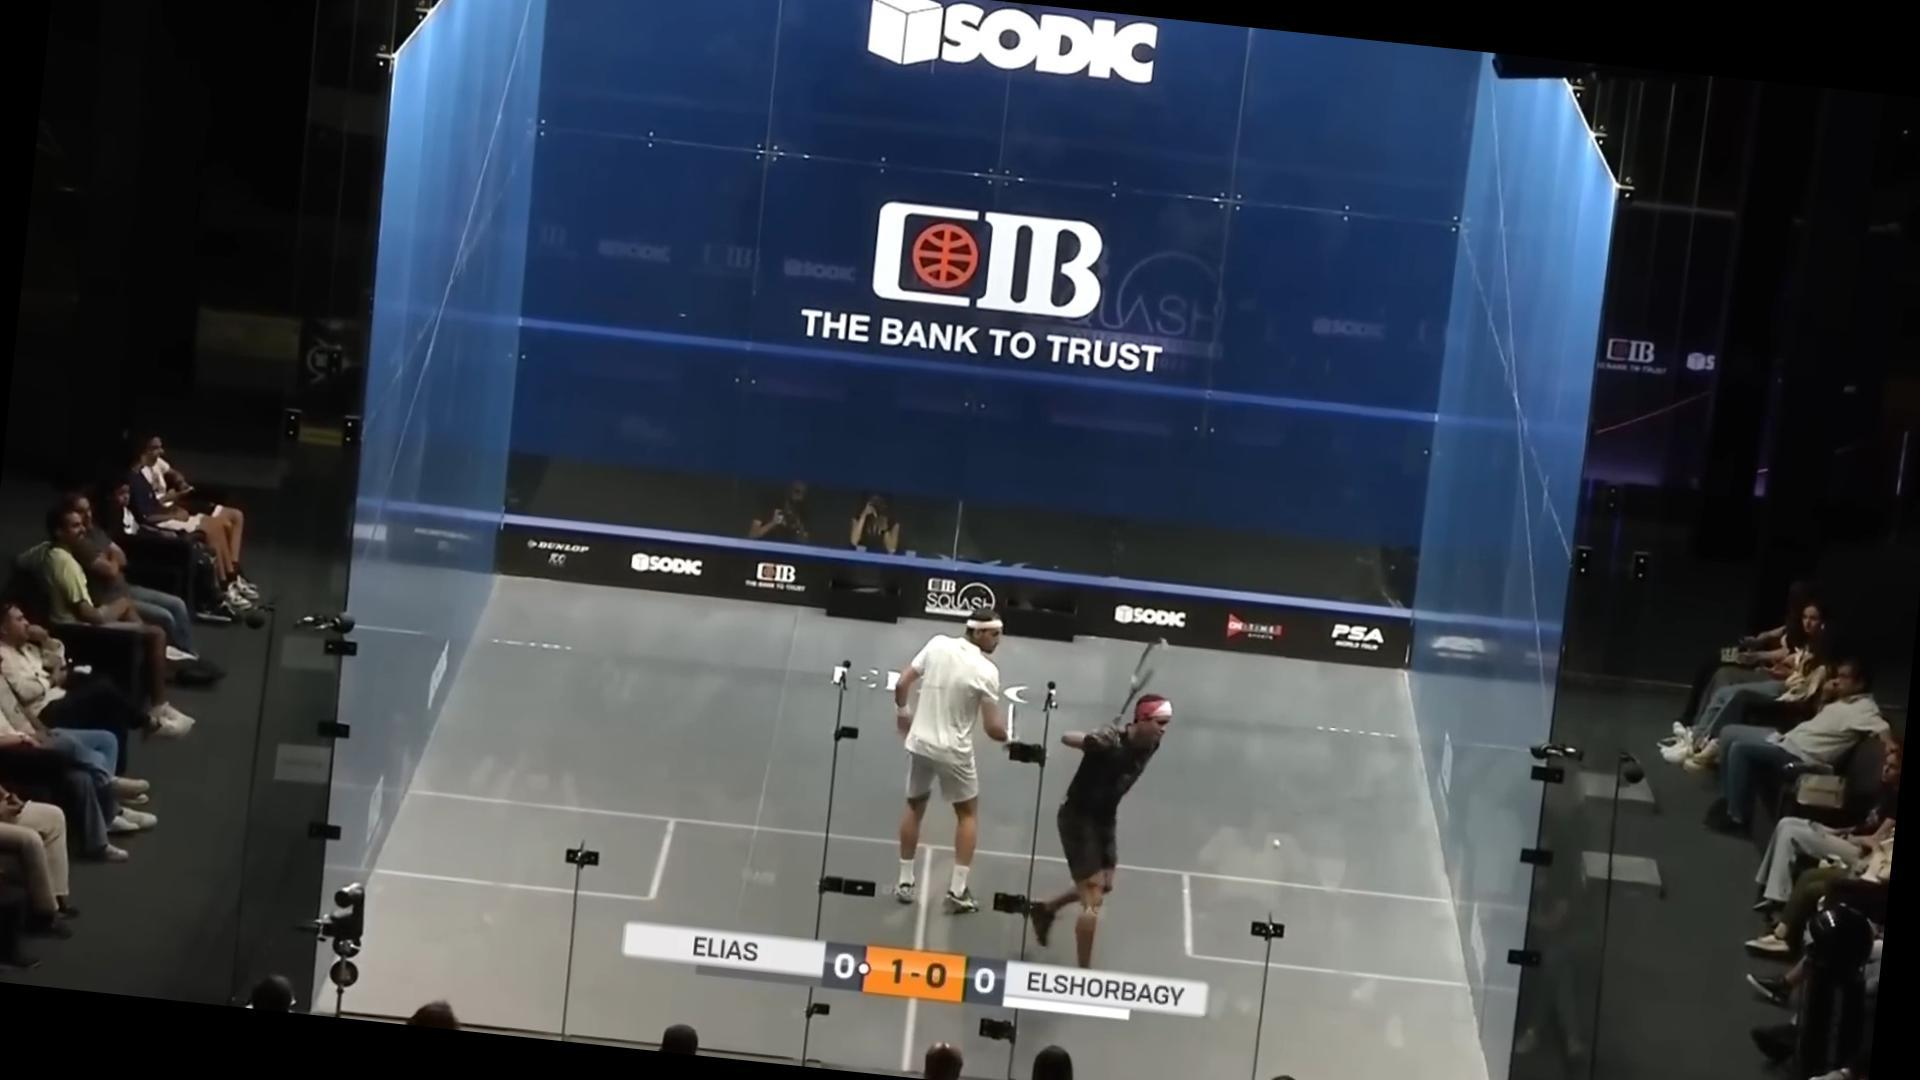Squash-Ball: (1259, 823, 1294, 865)
